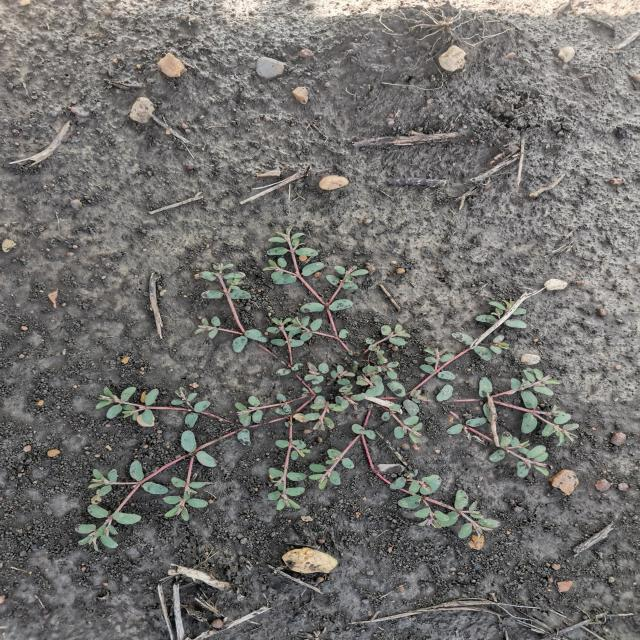SpottedSpurge: (70, 222, 582, 555)
